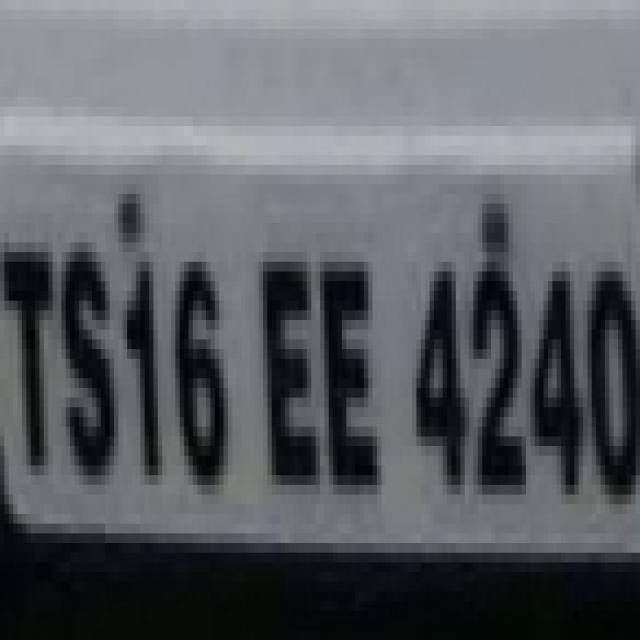0: (583, 242, 640, 524)
1: (124, 236, 166, 487)
4: (405, 246, 473, 508), (529, 244, 588, 510)
6: (171, 232, 231, 501)
E: (318, 218, 388, 513), (257, 226, 322, 506)
S: (54, 223, 120, 482)
T: (1, 217, 56, 480)
